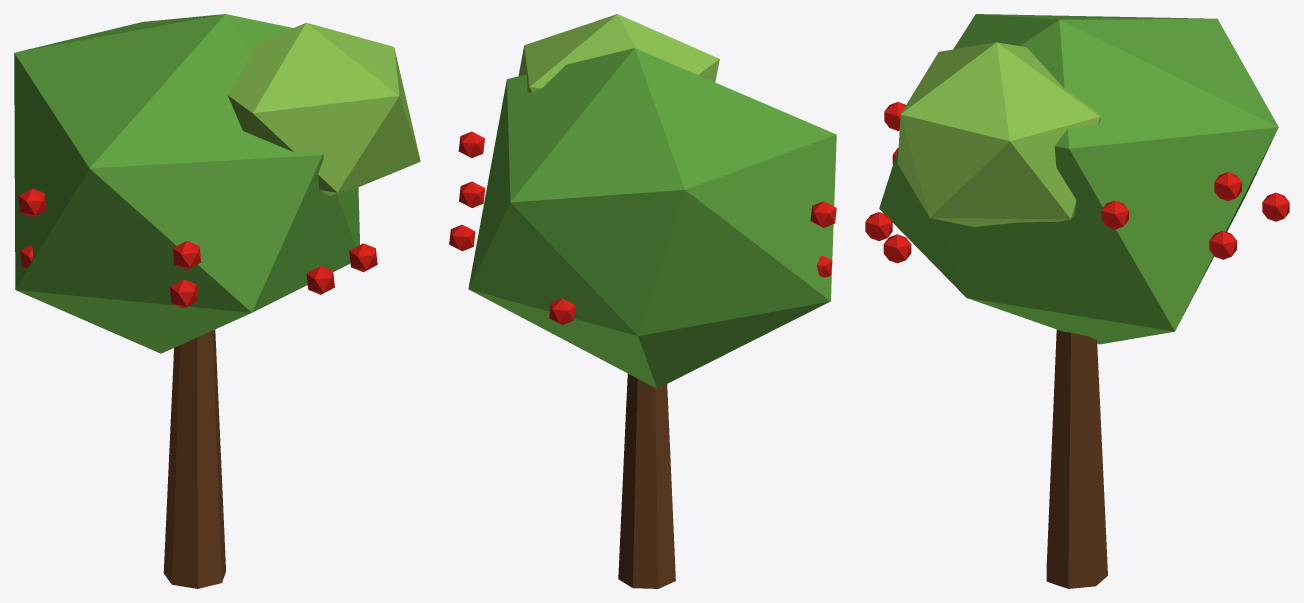
The model's file is apple_tree.glb.
The picture shows the model from 3 angles, left to right: view 1: azimuth 30°, elevation 25°; view 2: azimuth 150°, elevation 25°; view 3: azimuth 270°, elevation 25°; orthographic projection. The views are drawn at different scales.
Parts seen in each view (by area): view 1: apple_tree; view 2: apple_tree; view 3: apple_tree.
Part boxes in pixels (x1,y1,x2,y2): apple_tree: (14, 14, 420, 588); apple_tree: (449, 14, 836, 588); apple_tree: (865, 14, 1289, 588).
Bounding box in the file's own units: 2.41 × 3.49 × 2.36.
